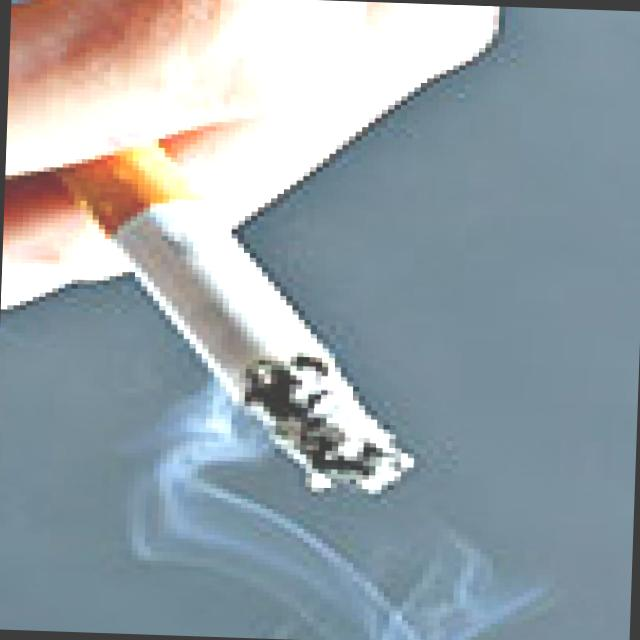smoke: (40, 124, 429, 497)
